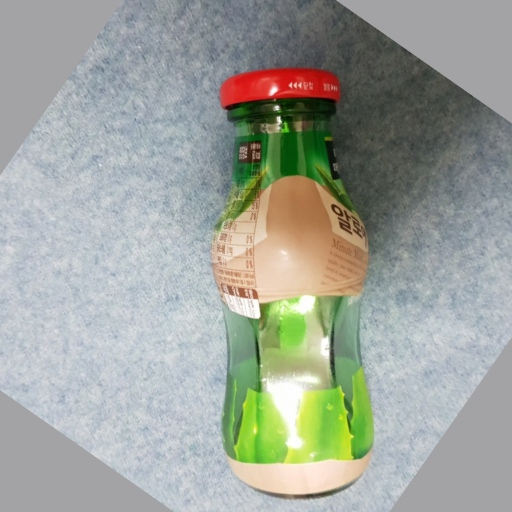Glass_4: (208, 66, 382, 502)
